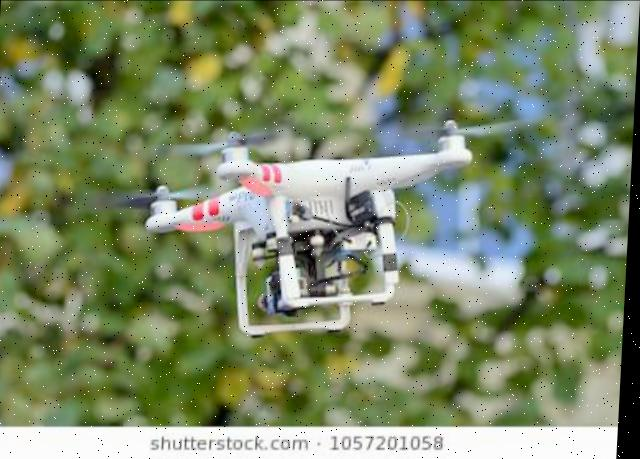drone: (87, 98, 547, 350)
